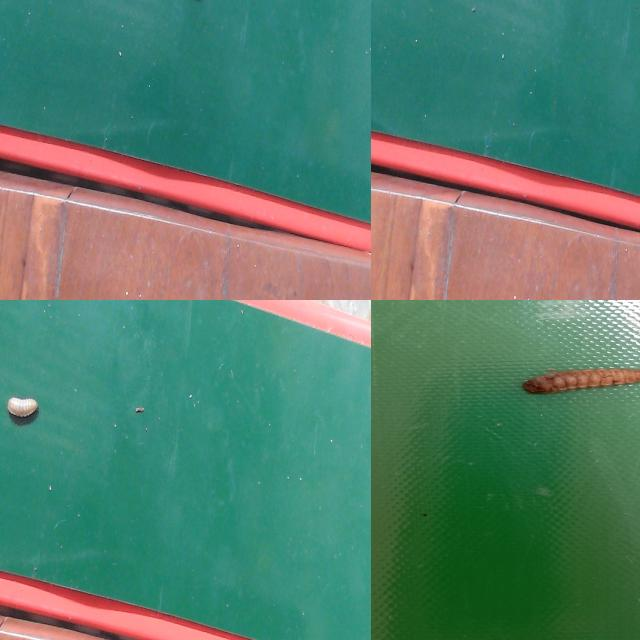Maggot: (521, 368, 640, 396), (5, 396, 40, 426)
